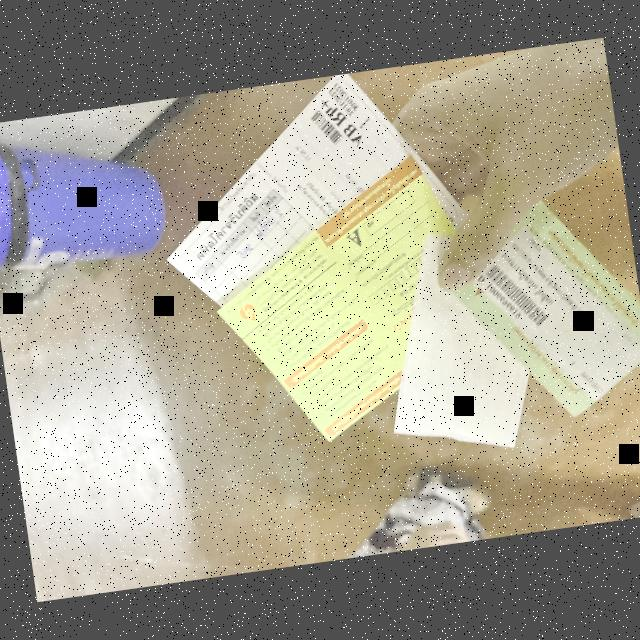scrap_paper: (145, 60, 480, 344), (191, 153, 494, 461), (435, 178, 640, 428), (360, 219, 538, 468)
